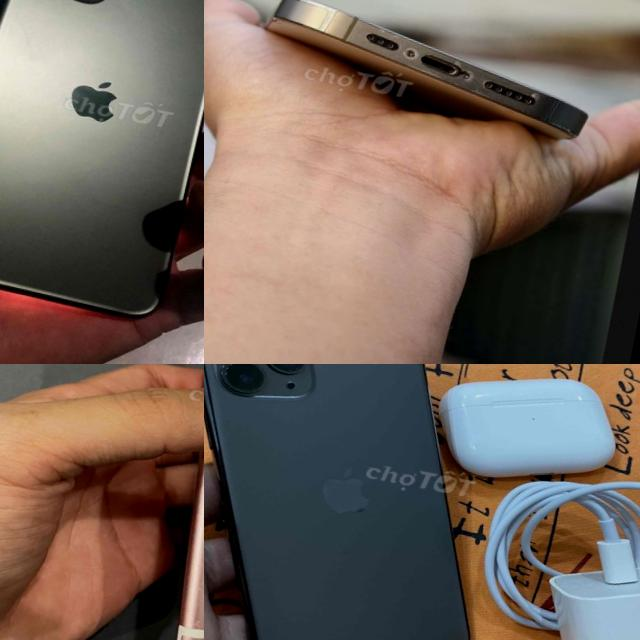gen_11: (204, 364, 529, 640), (0, 0, 204, 317)
gen_14: (231, 0, 621, 168)
gen_7_8: (131, 364, 204, 640)
